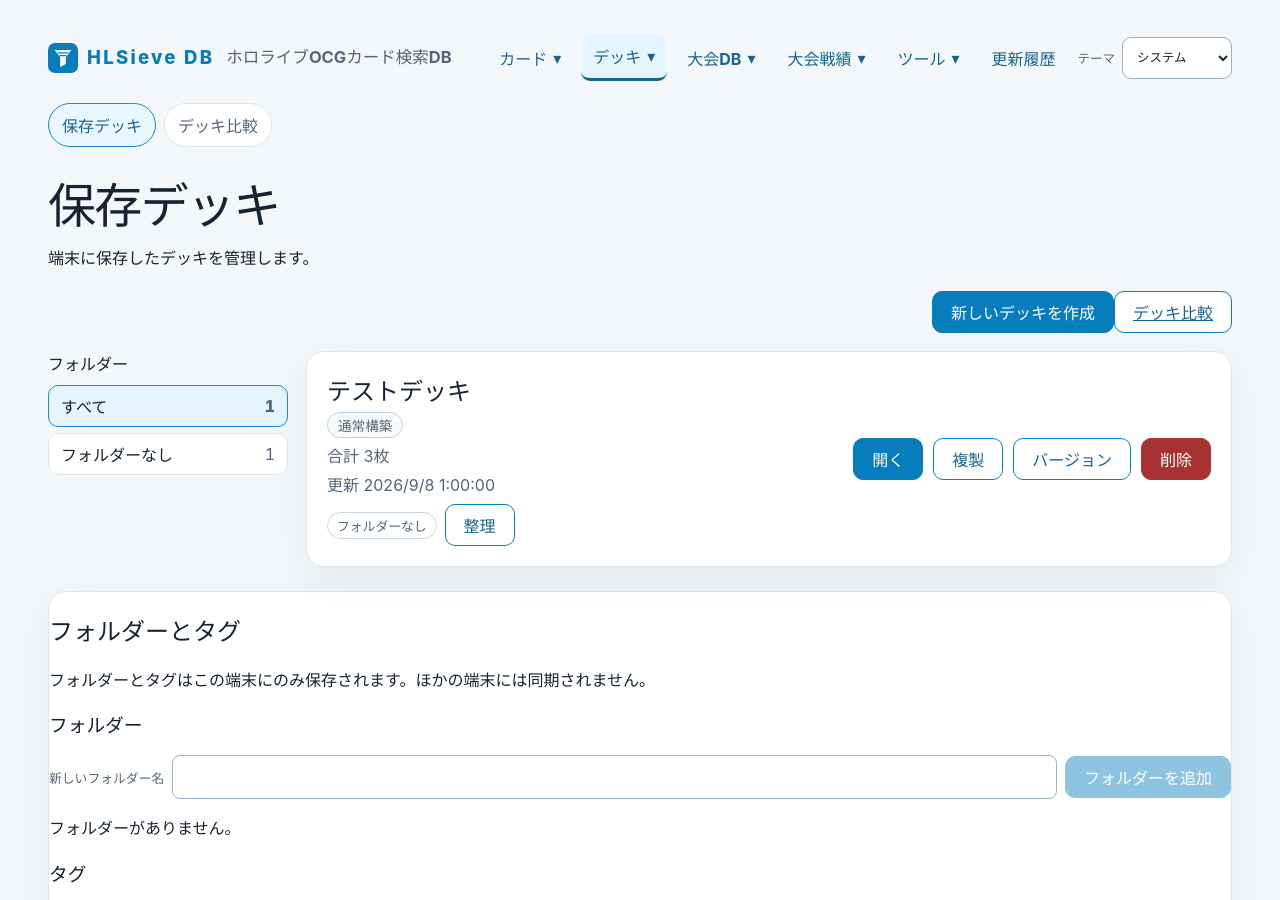
Test: SavedDecksPage › keeps the deck visible when deletion fails
Expected: the heading "テストデッキ" is shown, [327,377,471,406]
Click the button with aria-label "テストデッキを削除". click: [1176, 459]
box: [1141,438,1211,480]
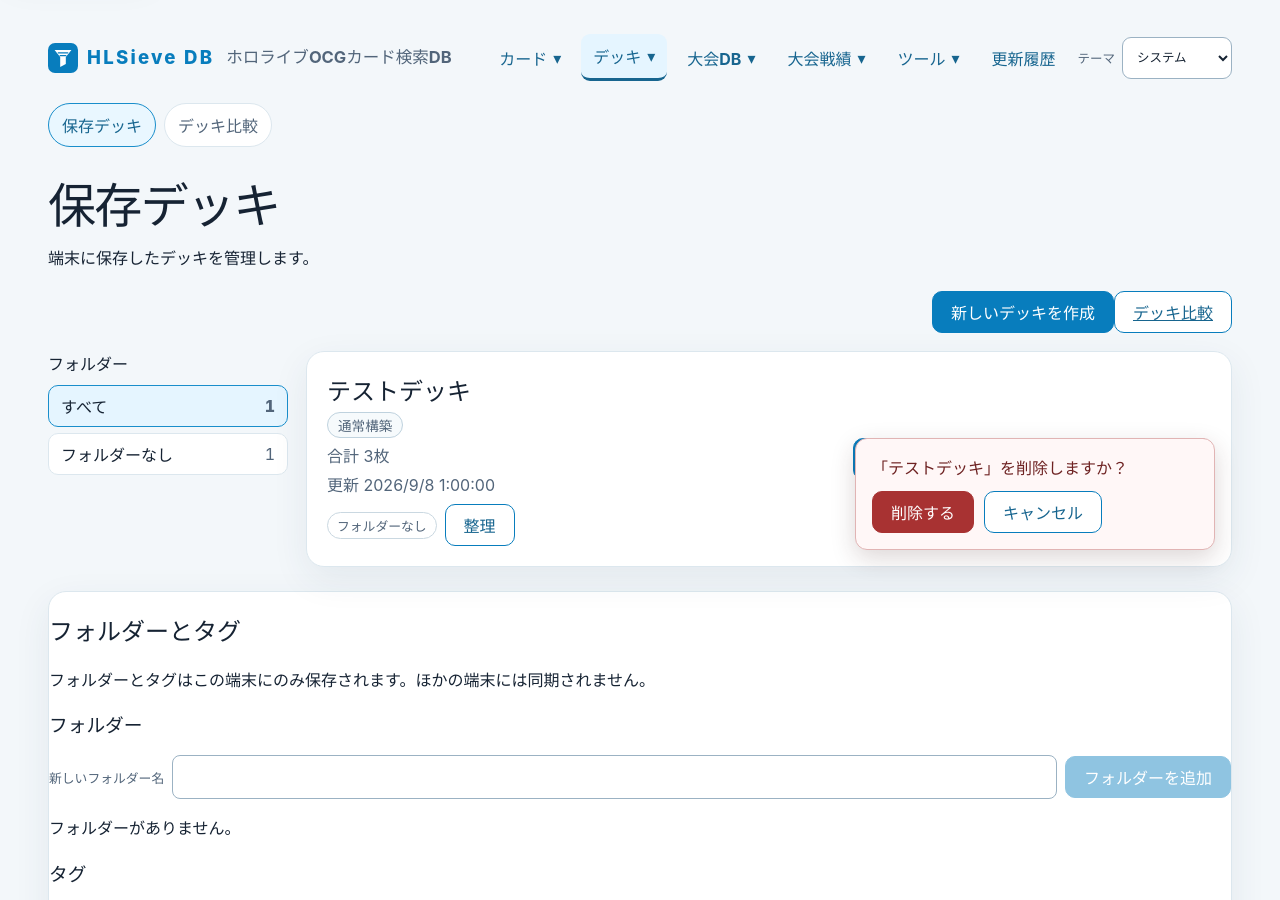
Click the button "削除する". click: [923, 512]
box: [872,491,974,533]
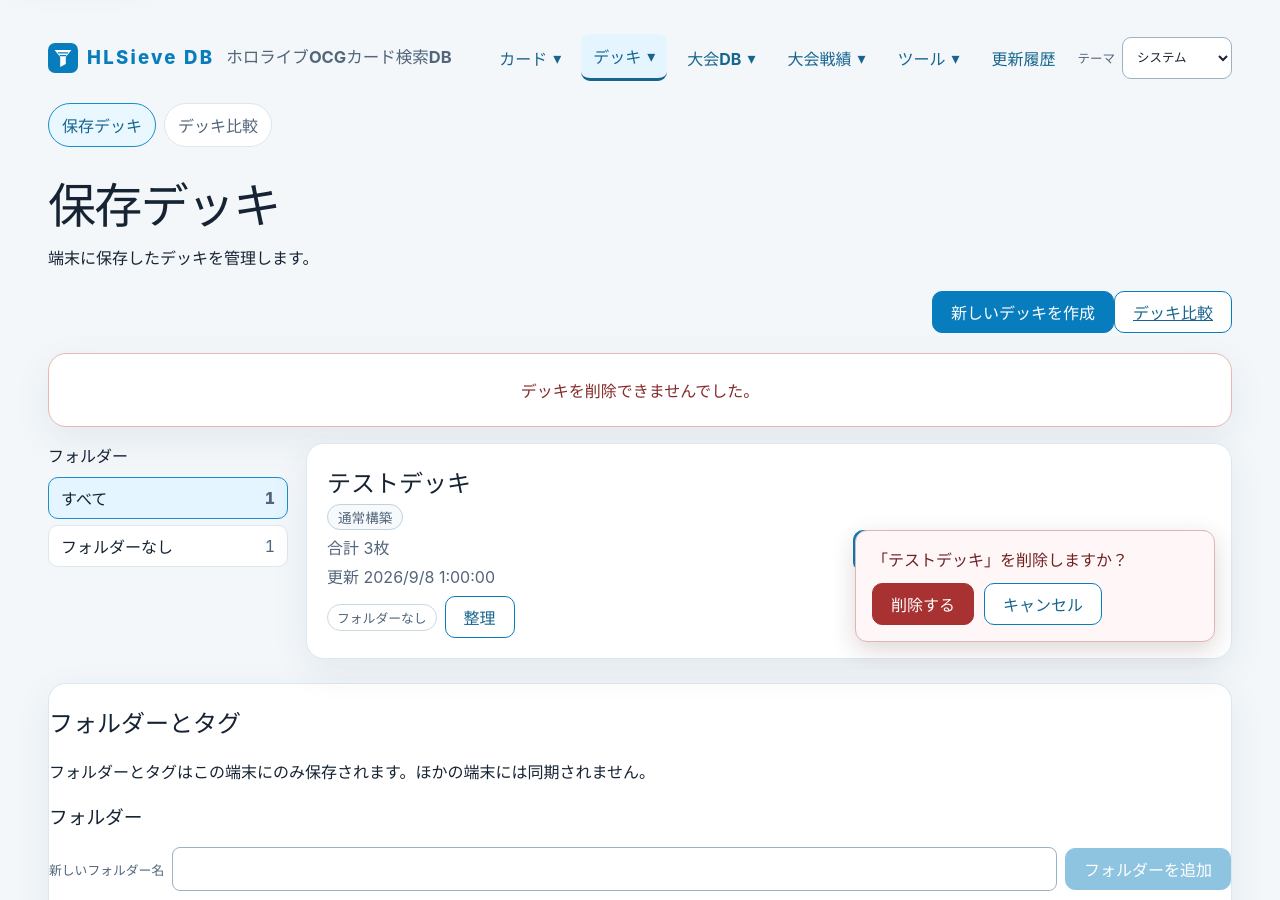
Expected: the heading "テストデッキ" is shown, [327,469,471,498]
Expected: the text "デッキを削除できませんでした。" is shown, [48,353,1232,427]
